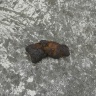Dog: (26, 40, 70, 64)
